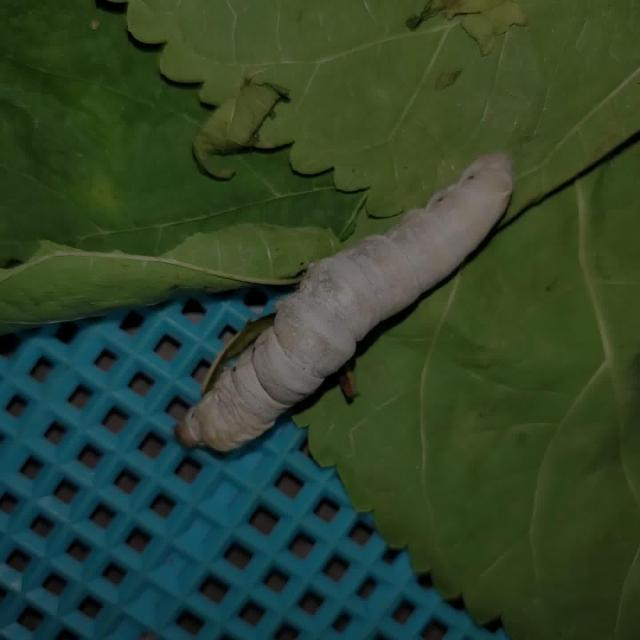Grasserie: (135, 99, 535, 501)
